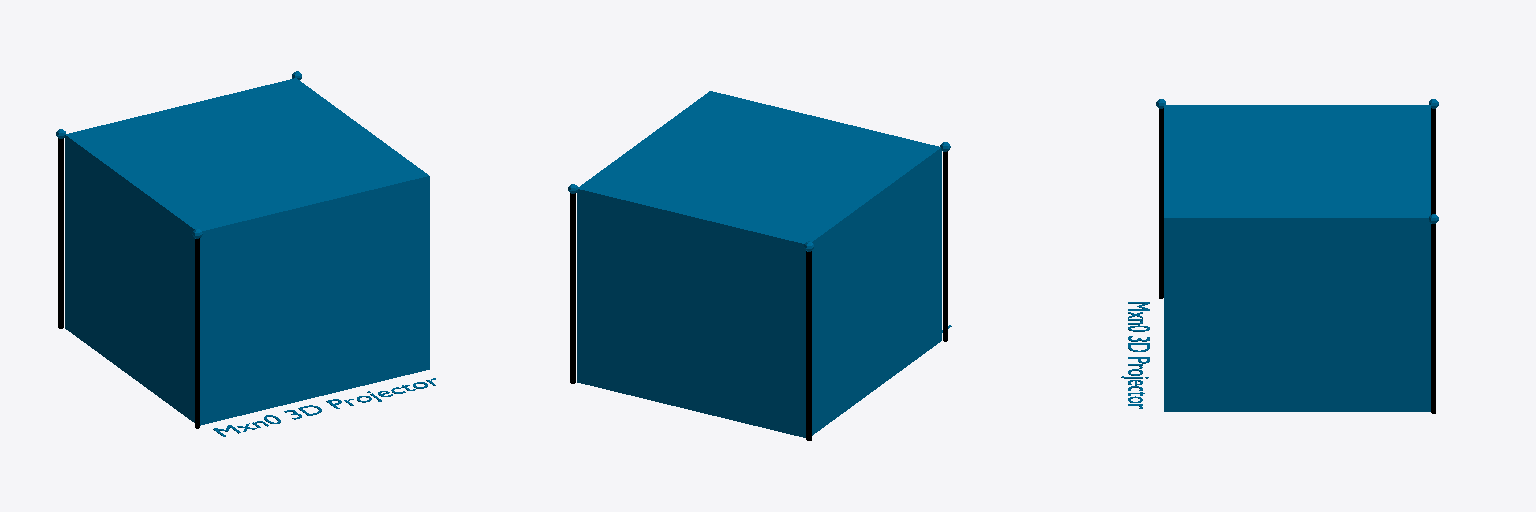
Rendered from 3DProjector_turn_on.obj.
3 renders of one model, left to right at view 1: azimuth 30°, elevation 25°; view 2: azimuth 150°, elevation 25°; view 3: azimuth 270°, elevation 25°, orthographic.
Parts seen in each view (by area): view 1: Cube_Cube.002, OxAxisProj.003_Cylinder.002, OxAxisProj.001_Cylinder.001, 3d_Projector_3d_proj; view 2: Cube_Cube.002, OxAxisProj.004_Cylinder.003, OxAxisProj.003_Cylinder.002, OxAxisProj.001_Cylinder.001; view 3: Cube_Cube.002, OxAxisProj.001_Cylinder.001, OxAxisProj.004_Cylinder.003, 3d_Projector_3d_proj, OxAxisProj.003_Cylinder.002.
Part boxes in pixels (bbox=[...]): Cube_Cube.002: bbox=[65, 78, 429, 424]; OxAxisProj.003_Cylinder.002: bbox=[58, 138, 63, 328]; OxAxisProj.001_Cylinder.001: bbox=[195, 238, 199, 428]; 3d_Projector_3d_proj: bbox=[213, 378, 435, 436]; Cube_Cube.002: bbox=[577, 91, 941, 437]; OxAxisProj.004_Cylinder.003: bbox=[570, 193, 575, 383]; OxAxisProj.003_Cylinder.002: bbox=[806, 251, 811, 440]; OxAxisProj.001_Cylinder.001: bbox=[943, 151, 947, 341]; Cube_Cube.002: bbox=[1164, 105, 1430, 411]; OxAxisProj.001_Cylinder.001: bbox=[1159, 108, 1163, 298]; OxAxisProj.004_Cylinder.003: bbox=[1431, 224, 1435, 413]; 3d_Projector_3d_proj: bbox=[1121, 302, 1149, 408]; OxAxisProj.003_Cylinder.002: bbox=[1431, 108, 1435, 214].
Size of the model in its own units: 10.55 by 8.2 by 11.91.